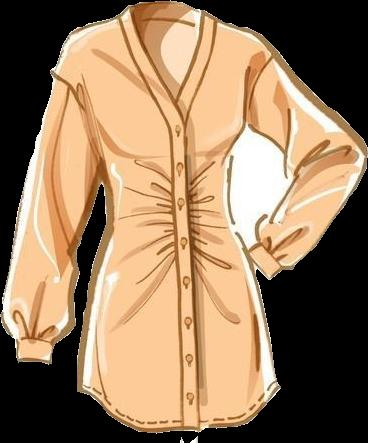Bodice: (50, 1, 277, 228)
Hemline: (76, 384, 283, 433)
Neckline: (127, 4, 203, 105)
Skirt: (77, 227, 280, 432)
Sleeve: (0, 78, 103, 364), (246, 49, 367, 279)
Sleeveline: (51, 72, 95, 155), (245, 54, 279, 123), (255, 241, 282, 271), (14, 334, 57, 346)
